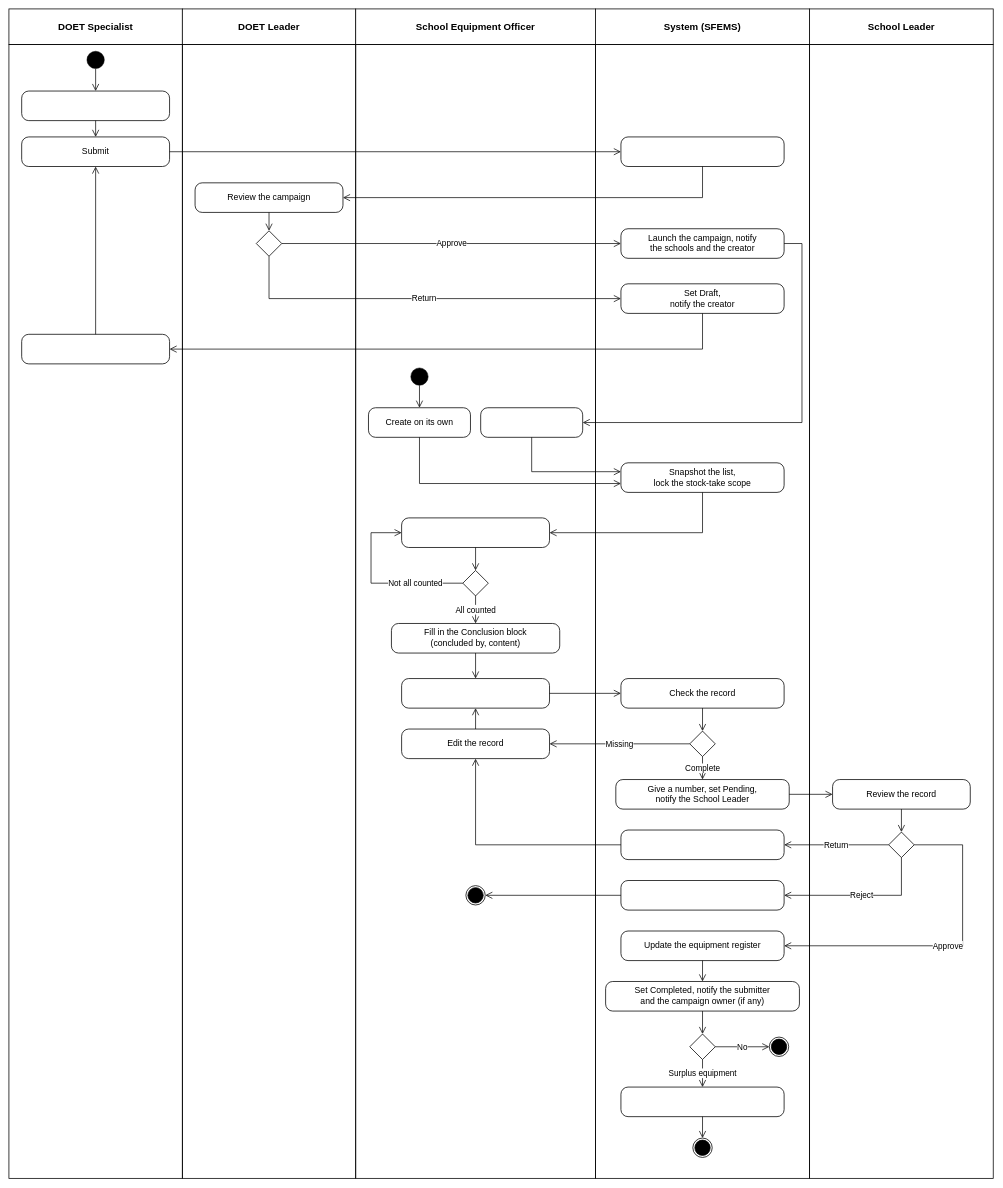
Some shapes in this 1003 by 1188 pixel diagram are drawn without their labels. The shapes that lost their labels are listed below. From the top down, each one's centre as x and y in pixels, then its label:
point 95,105: Create stock-take campaign
point 702,151: Set Pending approval, notify the DOET Leader
point 95,349: Edit the campaign
point 531,422: Create for campaign
point 475,532: Record count results room by room
point 475,693: Submit record
point 702,844: Set Draft (Returned), notify the submitter
point 702,895: Set Rejected, notify the submitter
point 702,1101: Create draft intake voucher (BF-03)
